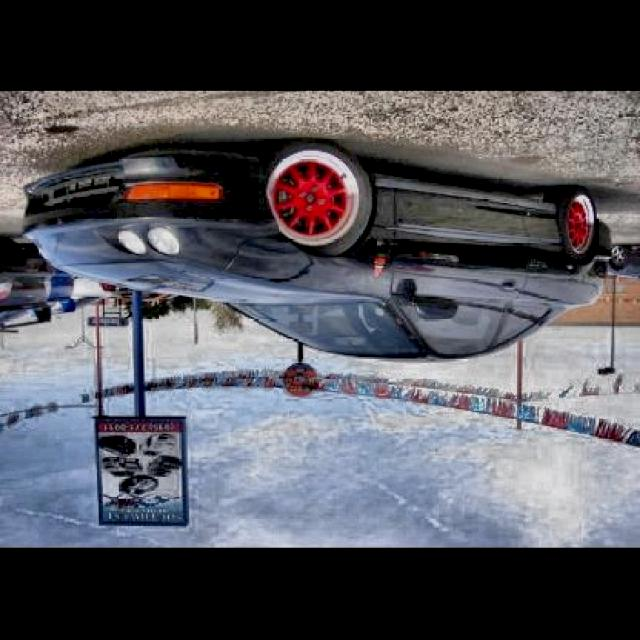black: (0, 174, 600, 366)
